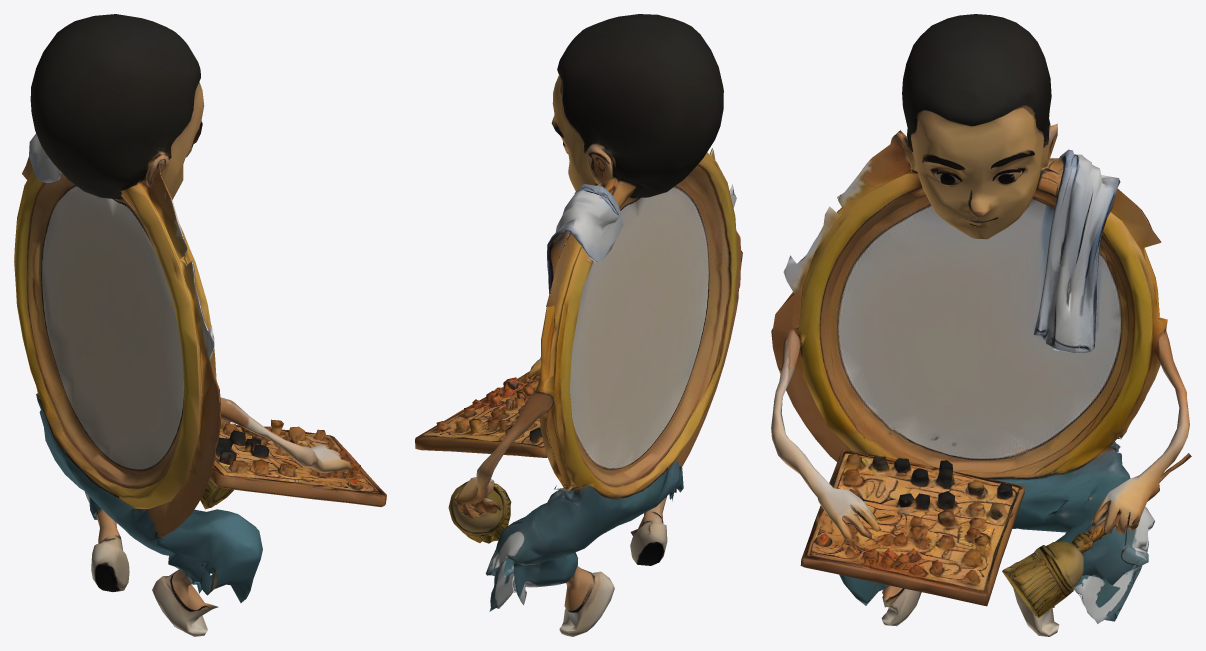
File: j_shen_young.glb
The picture shows the model from 3 angles, left to right: view 1: azimuth 30°, elevation 25°; view 2: azimuth 150°, elevation 25°; view 3: azimuth 270°, elevation 25°; orthographic projection.
Visible parts, largest first — view 1: tripo_node_ad875254-a868-43c5-817a-e94368fd5c46; view 2: tripo_node_ad875254-a868-43c5-817a-e94368fd5c46; view 3: tripo_node_ad875254-a868-43c5-817a-e94368fd5c46.
Part boxes in pixels (box(x1,y1,x2,y2)): tripo_node_ad875254-a868-43c5-817a-e94368fd5c46: box(14, 14, 386, 636); tripo_node_ad875254-a868-43c5-817a-e94368fd5c46: box(415, 14, 742, 636); tripo_node_ad875254-a868-43c5-817a-e94368fd5c46: box(771, 14, 1191, 636).
Size of the model in its own units: 0.5203 by 1 by 0.6422.
Materials: 1 (1 with a texture image).
